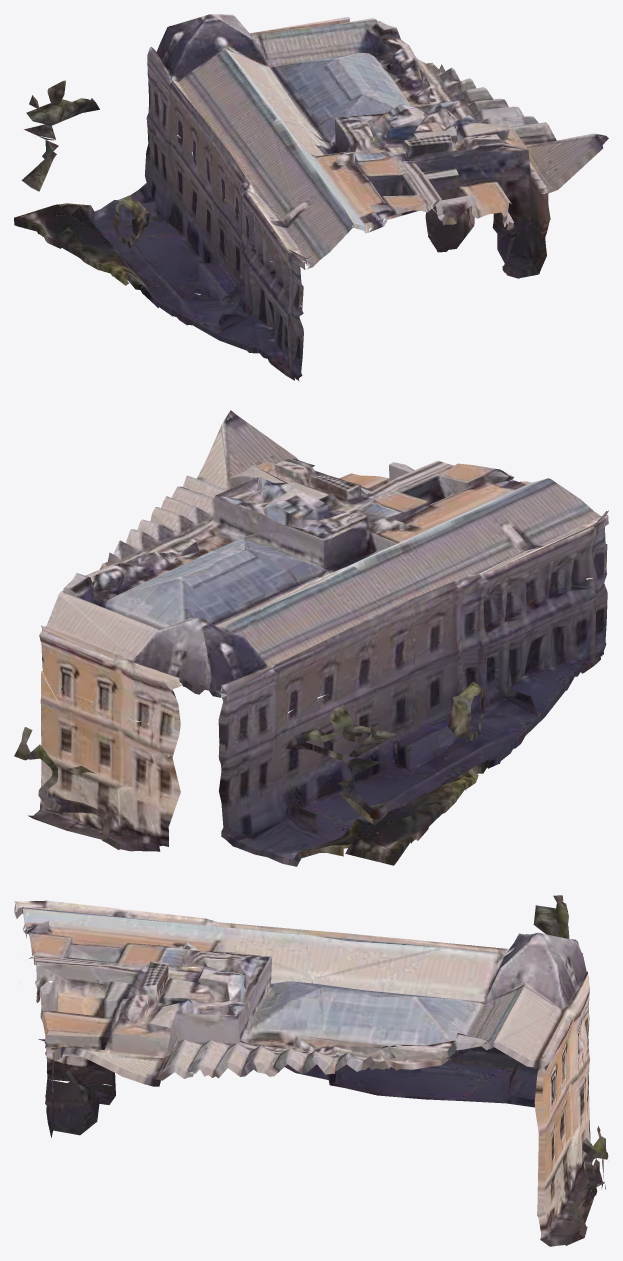
The picture shows the model from 3 angles, top to bottom: view 1: azimuth 30°, elevation 25°; view 2: azimuth 150°, elevation 25°; view 3: azimuth 270°, elevation 25°; orthographic projection. The views are drawn at different scales.
Visible parts, largest first — view 1: Mesh_0; view 2: Mesh_0; view 3: Mesh_0.
Part boxes in pixels (x1,y1,x2,y2): Mesh_0: (14,14,608,381); Mesh_0: (14,410,608,866); Mesh_0: (14,895,608,1246).
Size of the model in its own units: 67.13 by 36.23 by 82.53.
Materials: 2 (2 with a texture image).
